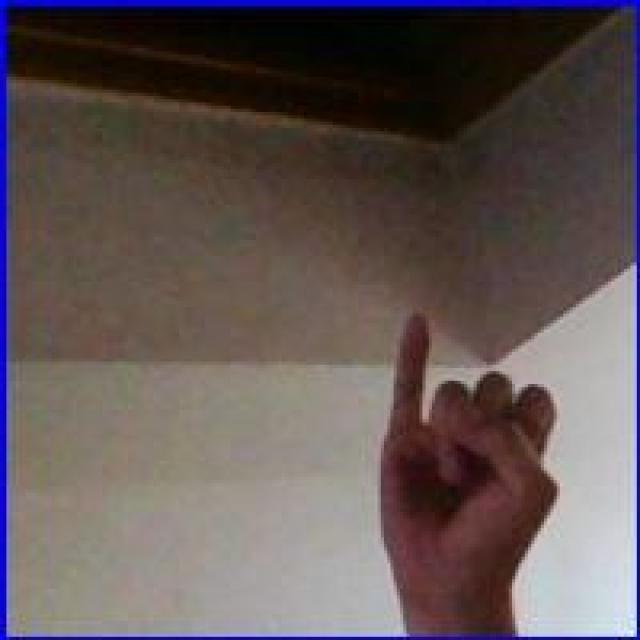I: (374, 304, 564, 605)
